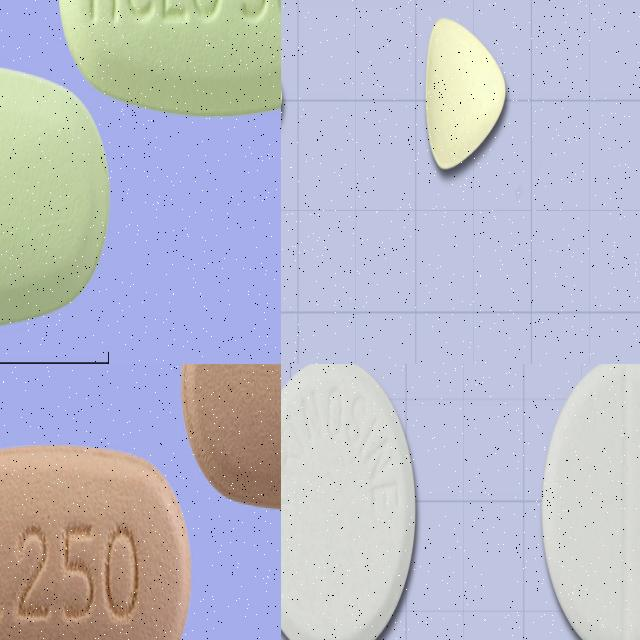Durova: (424, 16, 507, 171)
Hericlo: (0, 60, 113, 330), (57, 0, 281, 119)
Levoby - 500mg: (0, 442, 191, 640), (180, 364, 281, 509)
Prinosine500mg: (281, 364, 418, 640), (542, 364, 640, 640)
